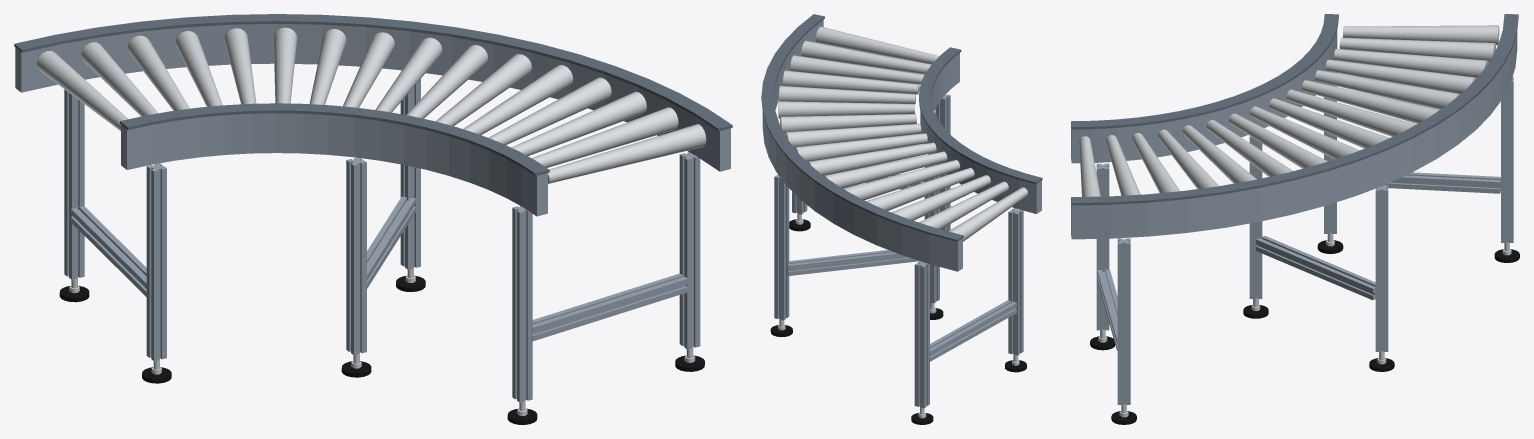
Rendered from roller_curve_90.glb.
3 views of the same model, side by side, from view 1: azimuth 30°, elevation 25°; view 2: azimuth 150°, elevation 25°; view 3: azimuth 270°, elevation 25° (orthographic). The views are drawn at different scales.
Parts seen in each view (by area): view 1: Conveyor_Frame_alu_anodised, Conveyor_Frame_alu_dark, Roller_16_steel_bright, Roller_15_steel_bright, Roller_14_steel_bright, Roller_13_steel_bright, Roller_12_steel_bright, Conveyor_Frame_rubber, Roller_11_steel_bright, Roller_01_steel_bright, Roller_10_steel_bright, Roller_02_steel_bright (+8 smaller); view 2: Conveyor_Frame_alu_anodised, Conveyor_Frame_alu_dark, Roller_13_steel_bright, Roller_11_steel_bright, Roller_10_steel_bright, Roller_12_steel_bright, Roller_14_steel_bright, Roller_09_steel_bright, Roller_15_steel_bright, Roller_08_steel_bright, Roller_16_steel_bright, Roller_07_steel_bright (+8 smaller); view 3: Conveyor_Frame_alu_anodised, Conveyor_Frame_alu_dark, Roller_01_steel_bright, Roller_02_steel_bright, Roller_03_steel_bright, Roller_04_steel_bright, Roller_05_steel_bright, Roller_06_steel_bright, Roller_07_steel_bright, Roller_08_steel_bright, Roller_09_steel_bright, Conveyor_Frame_rubber (+8 smaller).
Boxes of the visible parts, x1=… form: Conveyor_Frame_alu_anodised: x1=15, y1=23, x2=730, y2=402; Conveyor_Frame_alu_dark: x1=14, y1=14, x2=732, y2=176; Roller_16_steel_bright: x1=548, y1=124, x2=706, y2=183; Roller_15_steel_bright: x1=532, y1=107, x2=678, y2=167; Roller_14_steel_bright: x1=511, y1=91, x2=646, y2=155; Roller_13_steel_bright: x1=488, y1=77, x2=611, y2=144; Roller_12_steel_bright: x1=463, y1=65, x2=573, y2=134; Conveyor_Frame_rubber: x1=59, y1=275, x2=704, y2=424; Roller_11_steel_bright: x1=435, y1=54, x2=531, y2=126; Roller_01_steel_bright: x1=37, y1=51, x2=128, y2=130; Roller_10_steel_bright: x1=406, y1=45, x2=487, y2=118; Roller_02_steel_bright: x1=81, y1=42, x2=157, y2=116; Conveyor_Frame_alu_anodised: x1=762, y1=20, x2=1041, y2=408; Conveyor_Frame_alu_dark: x1=761, y1=14, x2=1042, y2=241; Roller_13_steel_bright: x1=783, y1=70, x2=919, y2=94; Roller_11_steel_bright: x1=778, y1=101, x2=914, y2=118; Roller_10_steel_bright: x1=780, y1=114, x2=916, y2=133; Roller_12_steel_bright: x1=779, y1=85, x2=915, y2=104; Roller_14_steel_bright: x1=790, y1=55, x2=924, y2=84; Roller_09_steel_bright: x1=785, y1=123, x2=921, y2=147; Roller_15_steel_bright: x1=801, y1=40, x2=930, y2=74; Roller_08_steel_bright: x1=794, y1=133, x2=927, y2=161; Roller_16_steel_bright: x1=815, y1=26, x2=939, y2=64; Roller_07_steel_bright: x1=807, y1=142, x2=936, y2=175; Conveyor_Frame_alu_anodised: x1=1071, y1=29, x2=1517, y2=404; Conveyor_Frame_alu_dark: x1=1071, y1=14, x2=1518, y2=205; Roller_01_steel_bright: x1=1343, y1=25, x2=1499, y2=45; Roller_02_steel_bright: x1=1339, y1=37, x2=1495, y2=62; Roller_03_steel_bright: x1=1334, y1=49, x2=1488, y2=77; Roller_04_steel_bright: x1=1325, y1=59, x2=1476, y2=93; Roller_05_steel_bright: x1=1315, y1=70, x2=1460, y2=109; Roller_06_steel_bright: x1=1302, y1=80, x2=1439, y2=123; Roller_07_steel_bright: x1=1286, y1=89, x2=1416, y2=136; Roller_08_steel_bright: x1=1269, y1=98, x2=1389, y2=148; Roller_09_steel_bright: x1=1250, y1=106, x2=1359, y2=159; Conveyor_Frame_rubber: x1=1090, y1=240, x2=1519, y2=424.
Size of the model in its own units: 1.41 by 0.768 by 1.41.
